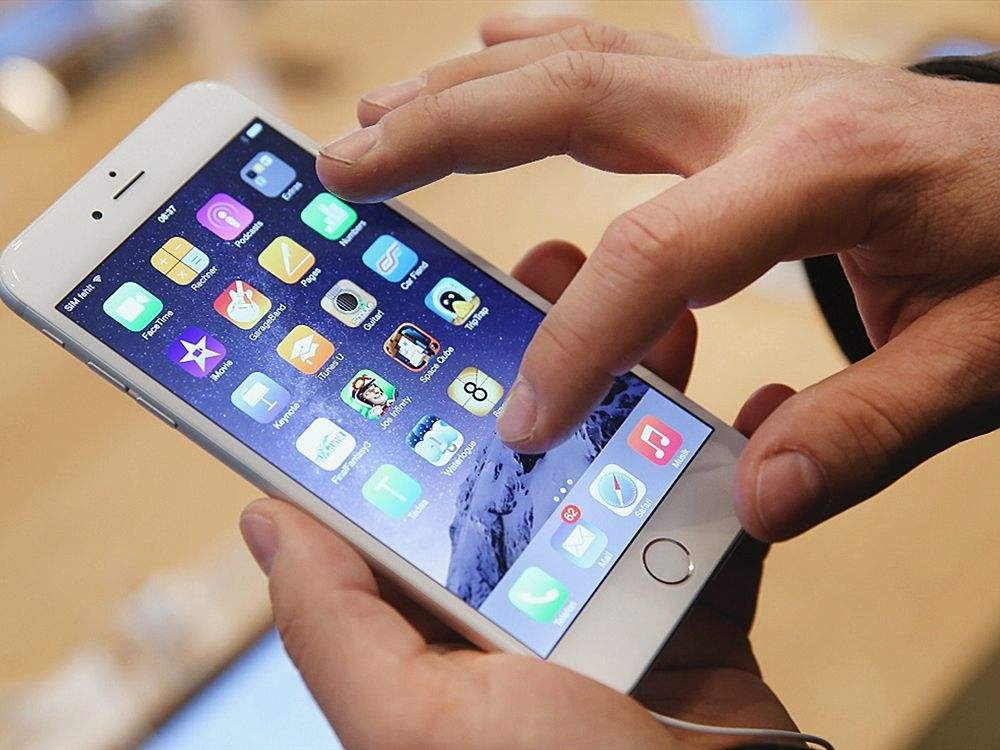reading: (1, 8, 989, 740)
